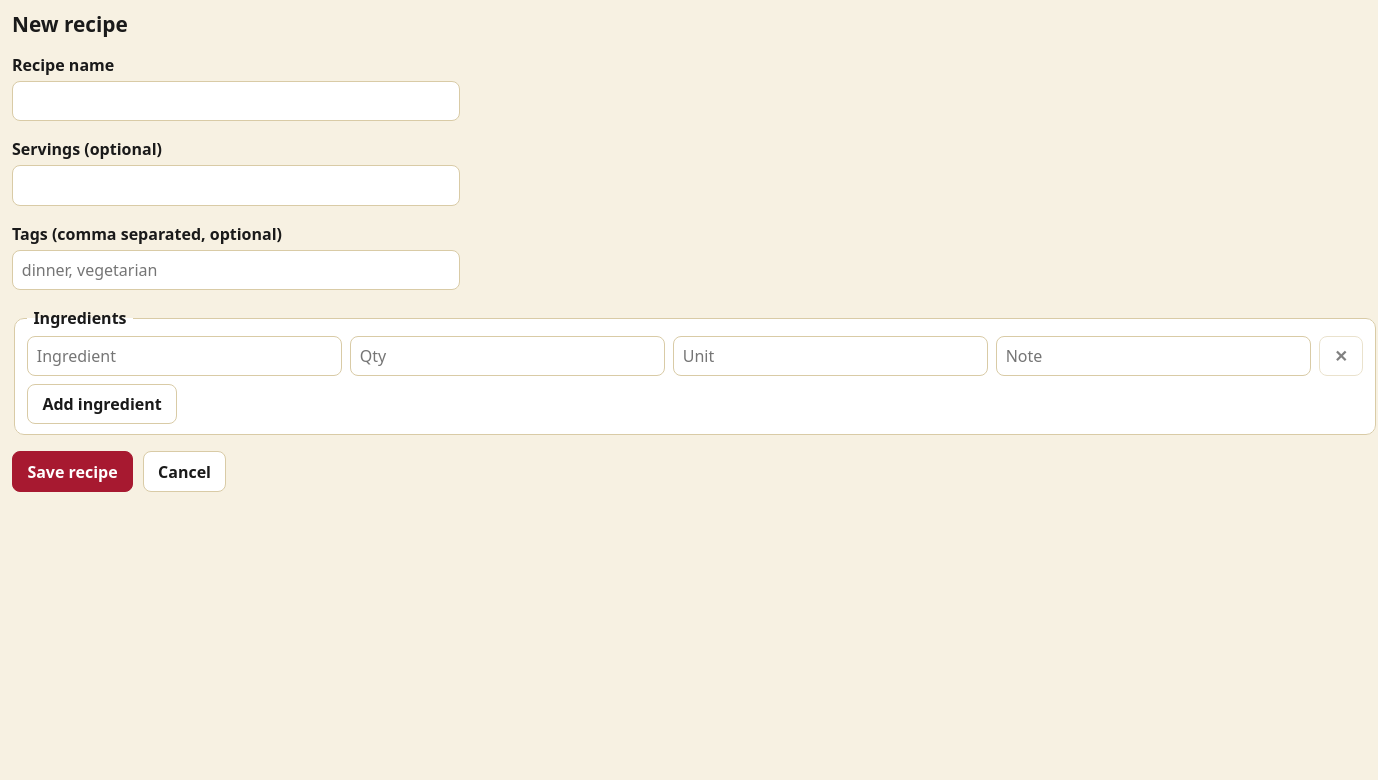
RecipeForm › adds and removes ingredient rows without touching the others
The width and height of the screenshot is (1378, 780).
Type "flour" into the field named "Ingredient 1 name" at (184, 356), box [27,336,342,376]
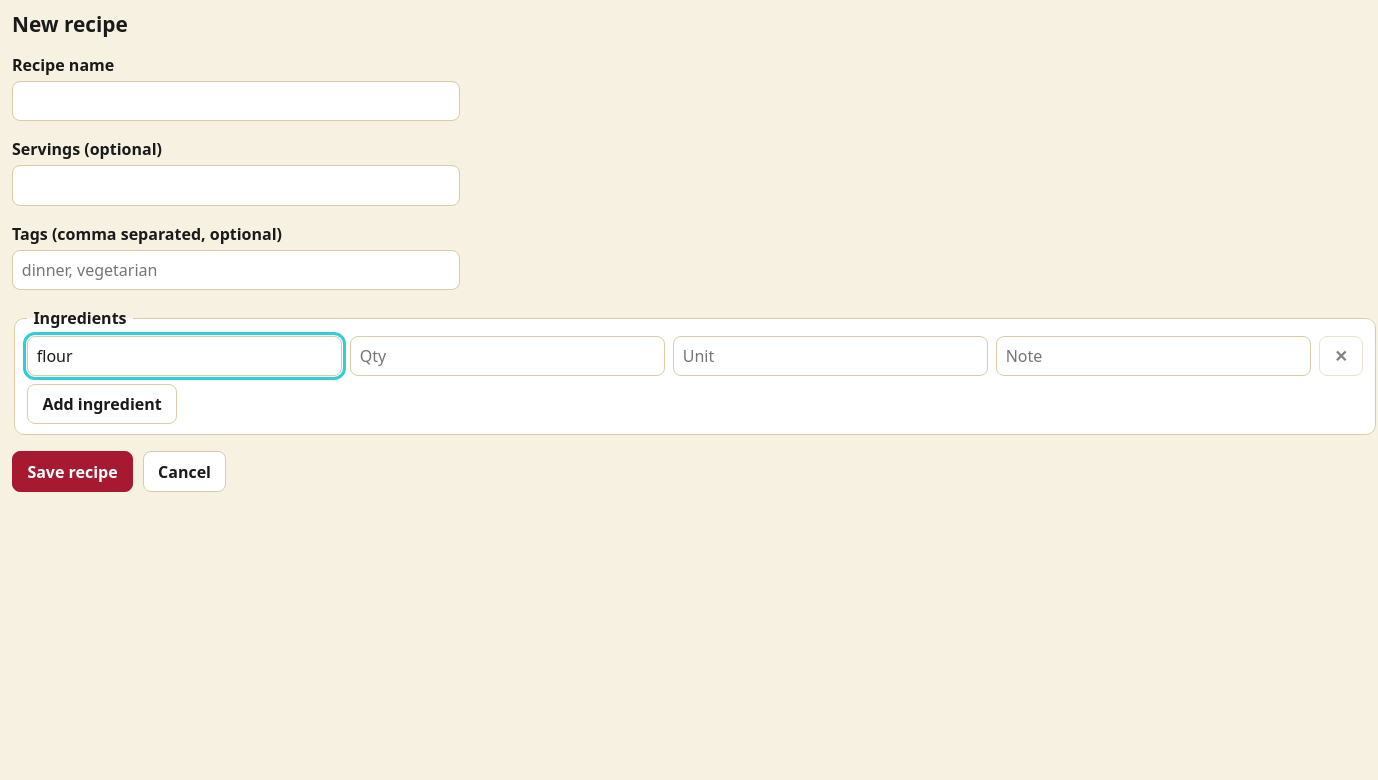
Click the button "Add ingredient" at (102, 404), box [27,384,177,424]
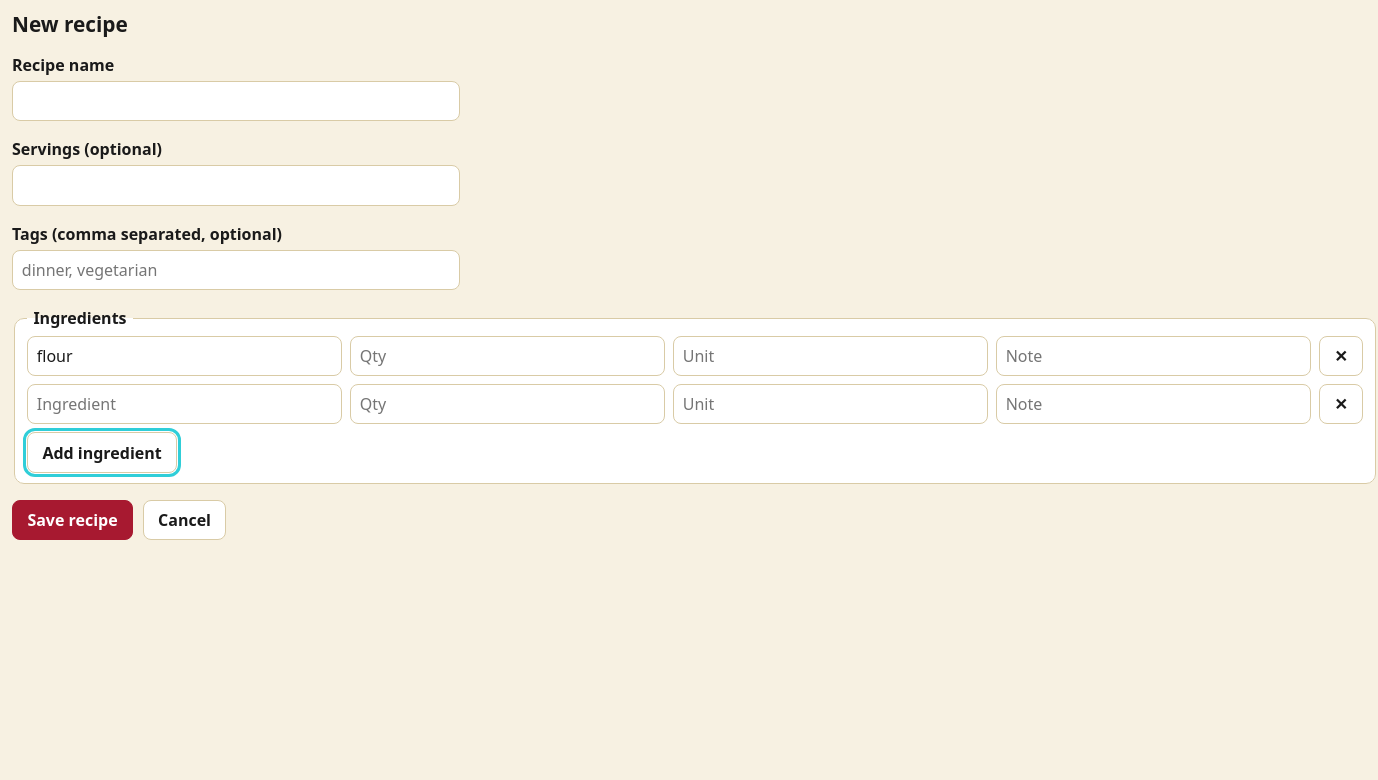
Type "sugar" into the field named "Ingredient 2 name" at (184, 404), box [27,384,342,424]
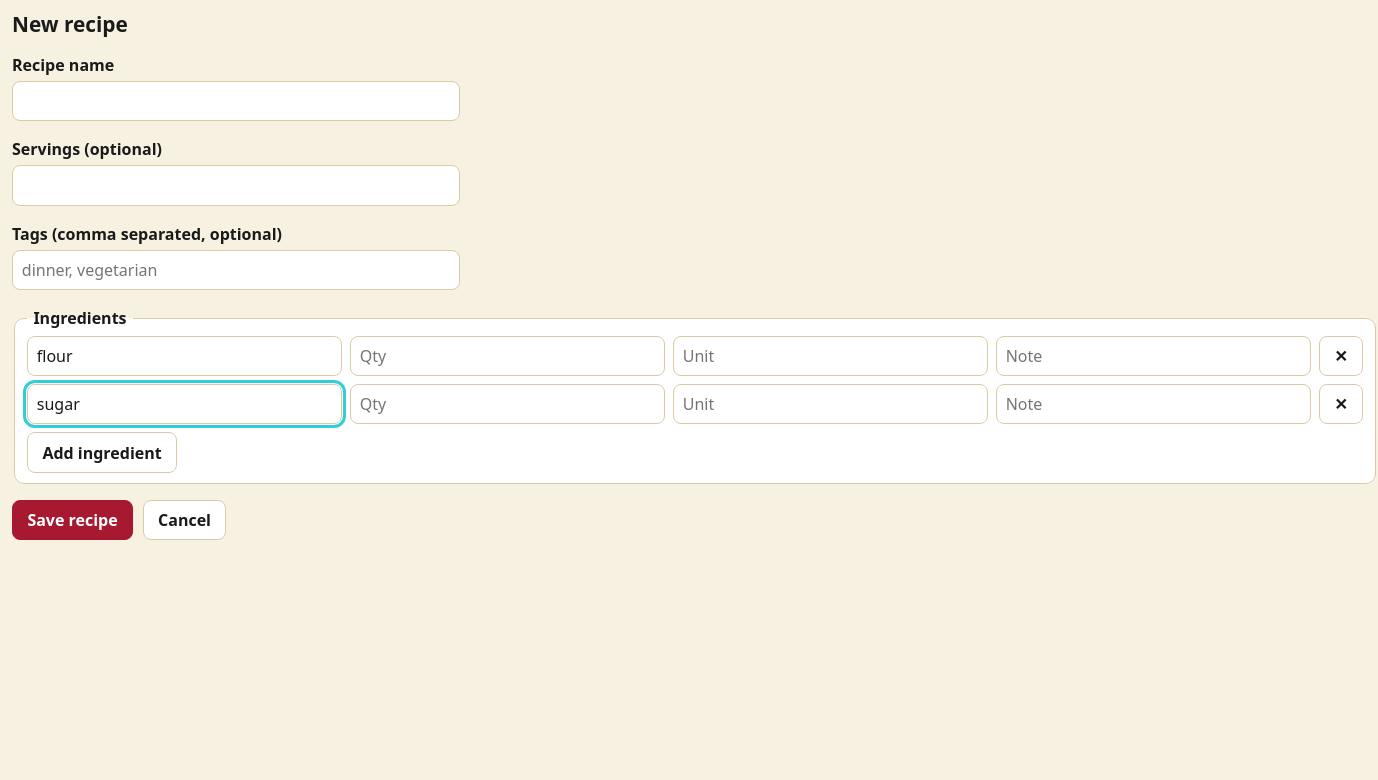
Click the button named "Remove ingredient 1" at (1341, 356), box [1319,336,1363,376]
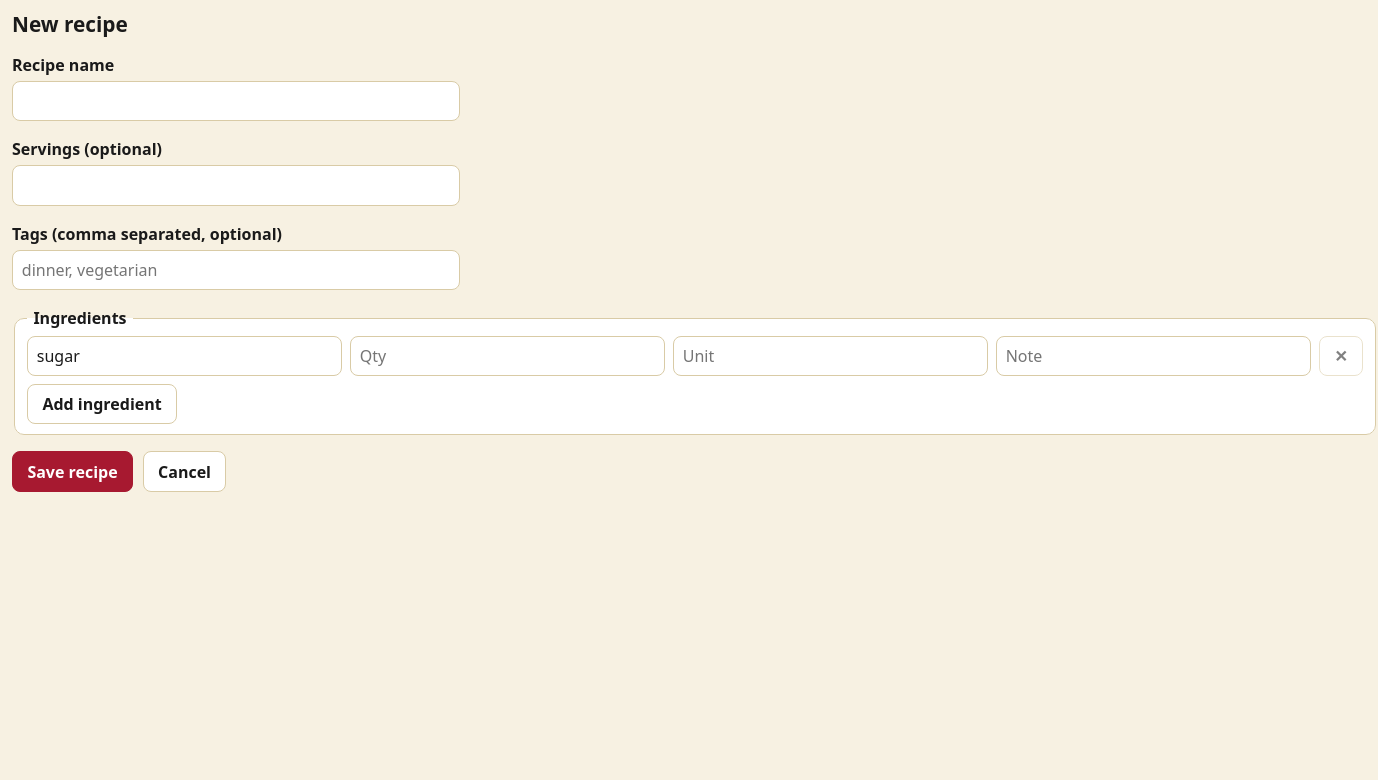
Now the field named "Ingredient 1 name" holds "sugar", box [27,336,342,376]
